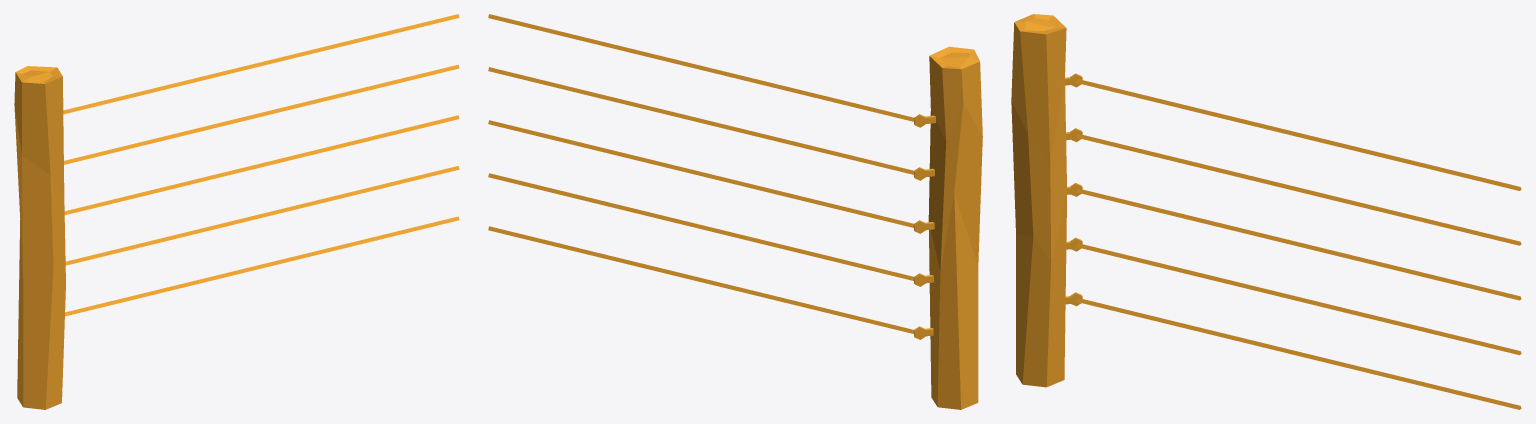
Rendered from SM_Fence_Electric_2m_B.fbx.
3 views of the same model, side by side, from view 1: azimuth 30°, elevation 25°; view 2: azimuth 150°, elevation 25°; view 3: azimuth 330°, elevation 25° (orthographic). The views are drawn at different scales.
Parts seen in each view (by area): view 1: fence-electric-2m-b; view 2: fence-electric-2m-b; view 3: fence-electric-2m-b.
Part boxes in pixels (x1,y1,x2,y2): fence-electric-2m-b: (14, 14, 459, 409); fence-electric-2m-b: (488, 14, 982, 409); fence-electric-2m-b: (1011, 14, 1521, 409).
Bounding box in the file's own units: 2.21 × 1.52 × 0.229.
